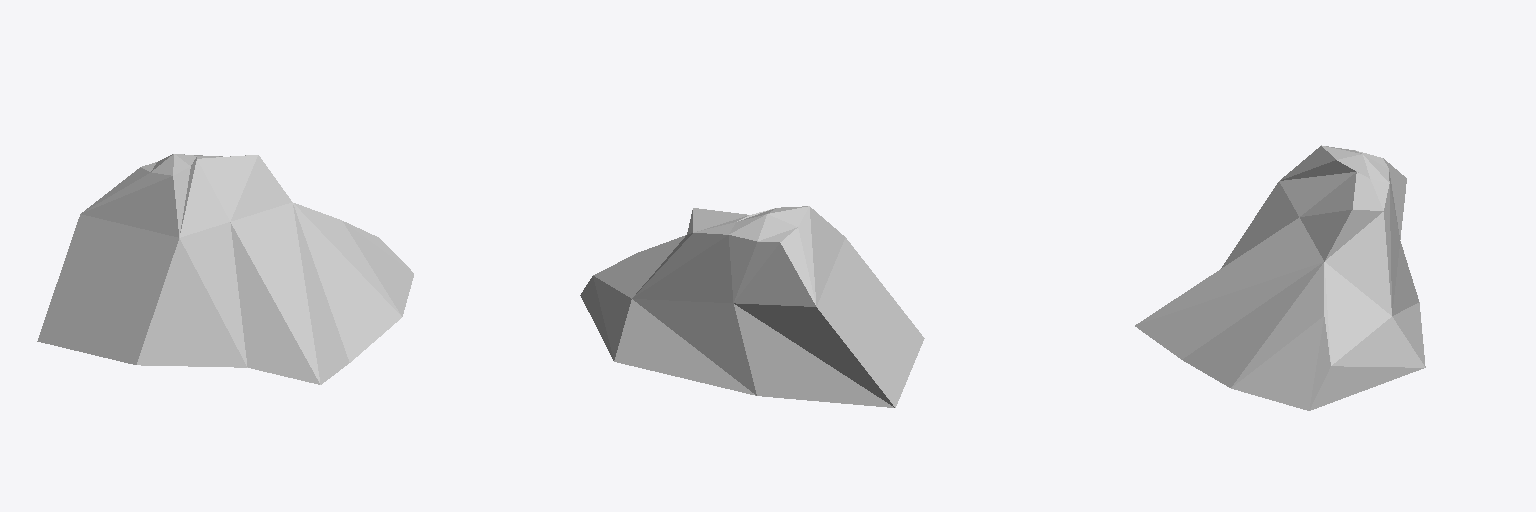
File: Rock01.obj
The picture shows the model from 3 angles: view 1: azimuth 30°, elevation 25°; view 2: azimuth 150°, elevation 25°; view 3: azimuth 270°, elevation 25°; orthographic projection.
Visible parts, largest first — view 1: Cube_Cube.001; view 2: Cube_Cube.001; view 3: Cube_Cube.001.
Boxes of the visible parts, x1,y1,x2,y2 form: Cube_Cube.001: [37, 154, 413, 384]; Cube_Cube.001: [580, 206, 924, 407]; Cube_Cube.001: [1135, 145, 1425, 410].
Bounding box in the file's own units: 7.51 × 3.4 × 5.47.